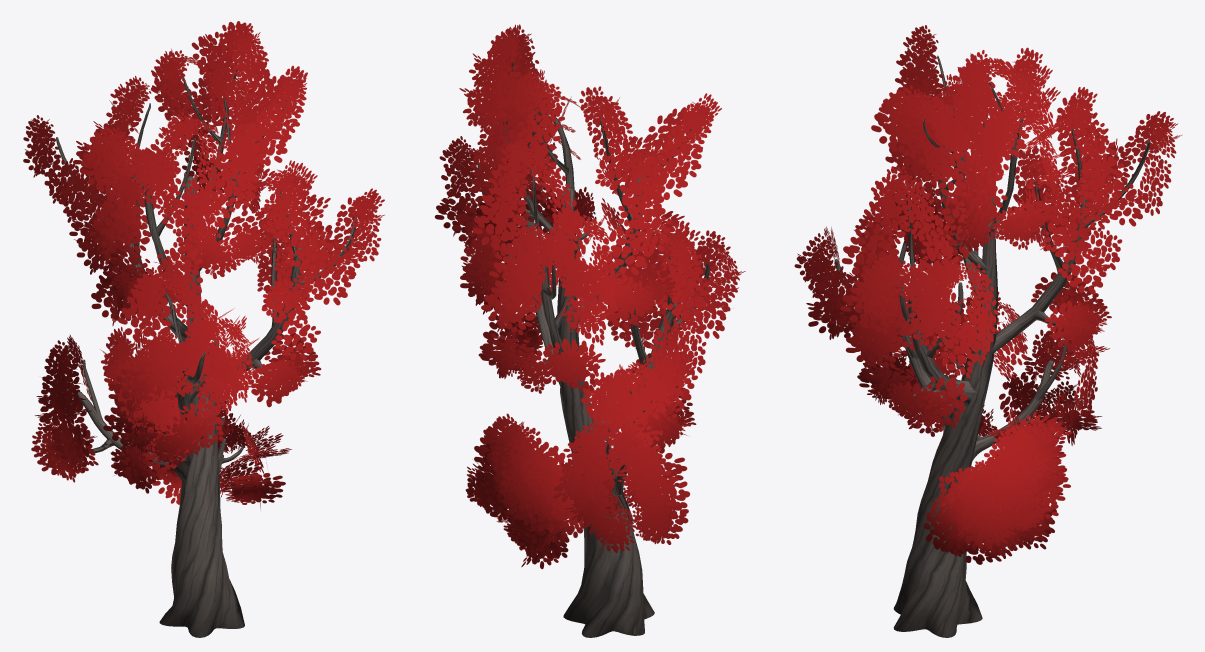
File: twisted-tree-7pdbpelkqr-transformed.glb
3 renders of one model, left to right at view 1: azimuth 30°, elevation 25°; view 2: azimuth 150°, elevation 25°; view 3: azimuth 270°, elevation 25°, orthographic. The views are drawn at different scales.
Parts seen in each view (by area): view 1: TwistedTree_4; view 2: TwistedTree_4; view 3: TwistedTree_4.
Boxes of the visible parts, left/top/right/bottom form: TwistedTree_4: left=23, top=21, right=384, bottom=637; TwistedTree_4: left=435, top=24, right=745, bottom=637; TwistedTree_4: left=794, top=25, right=1181, bottom=637.
Size of the model in its own units: 10.38 by 18.74 by 11.29.
Materials: 2 (2 with a texture image).
